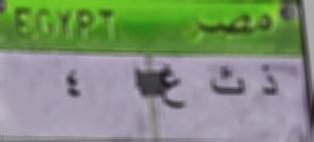4: (58, 65, 89, 106)
ghayn: (157, 61, 190, 119)
thaa: (206, 61, 252, 109)
zaal: (253, 63, 285, 109)
